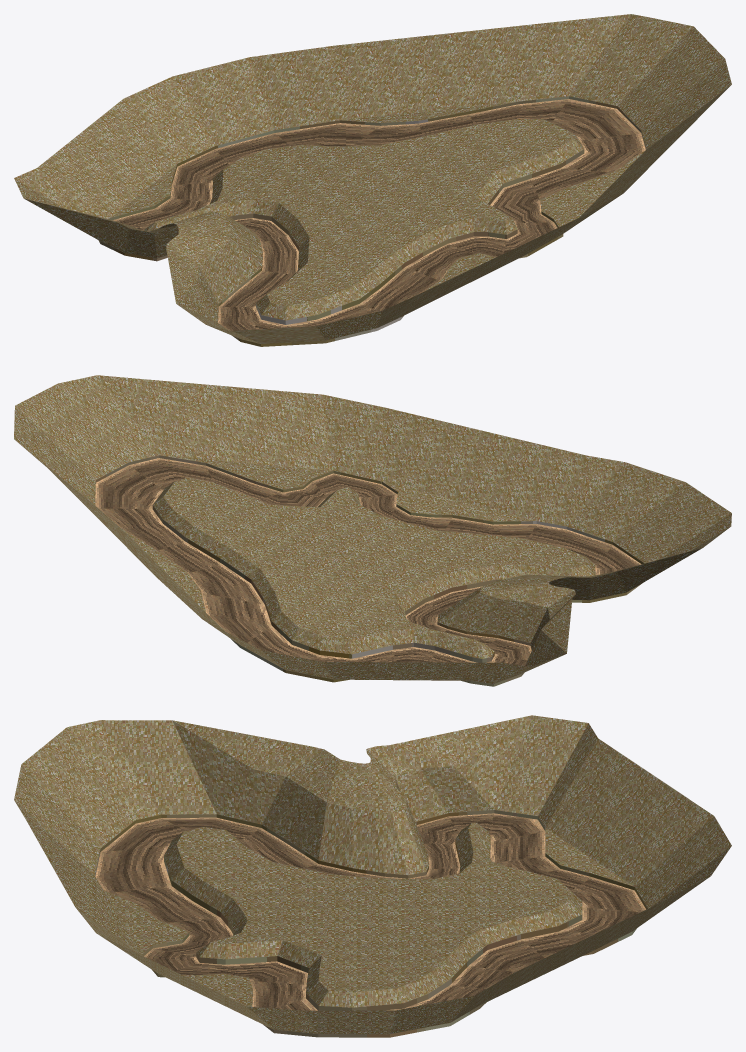
The model's file is planet_saturn1.gltf.
3 views of the same model, one above another, from view 1: azimuth 30°, elevation 25°; view 2: azimuth 150°, elevation 25°; view 3: azimuth 270°, elevation 25° (orthographic). The views are drawn at different scales.
Visible parts, largest first — view 1: Planet; view 2: Planet; view 3: Planet.
Part boxes in pixels (left/top/right/bottom): Planet: left=14, top=14, right=731, bottom=346; Planet: left=14, top=375, right=731, bottom=686; Planet: left=14, top=715, right=731, bottom=1037.
Bounding box in the file's own units: 247 × 42.92 × 201.
Materials: 4 (4 with a texture image).
